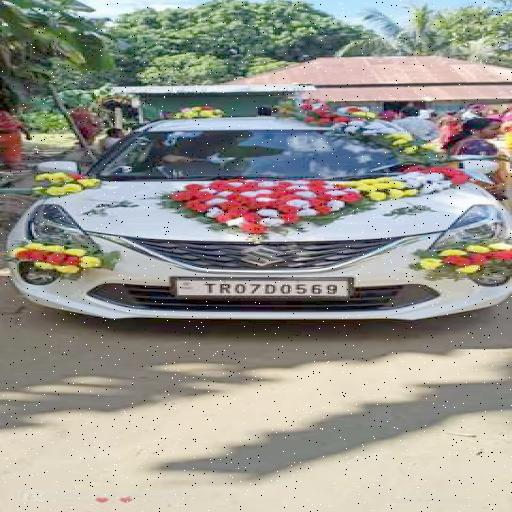license_plate`: (174, 278, 346, 294)
